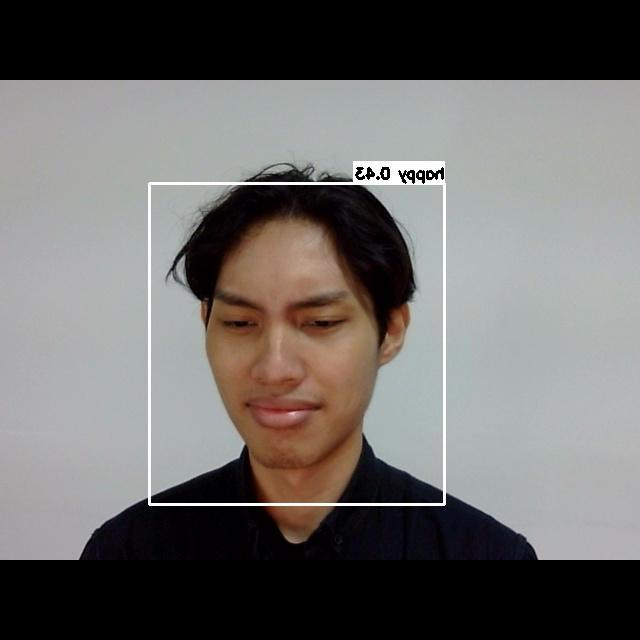Disgust: (200, 272, 379, 445)
